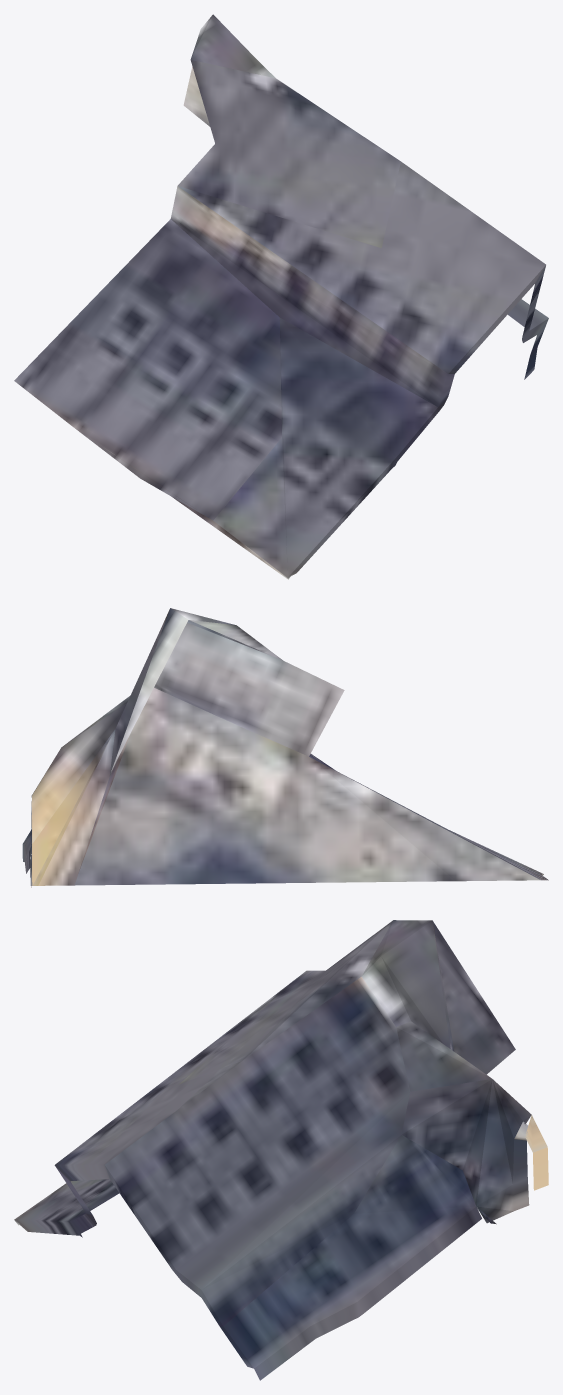
3 views of the same model, one above another, from view 1: azimuth 30°, elevation 25°; view 2: azimuth 150°, elevation 25°; view 3: azimuth 270°, elevation 25° (orthographic). The views are drawn at different scales.
Bounding box in the file's own units: 31.56 × 22.6 × 29.58.
1 material, 1 textured.
